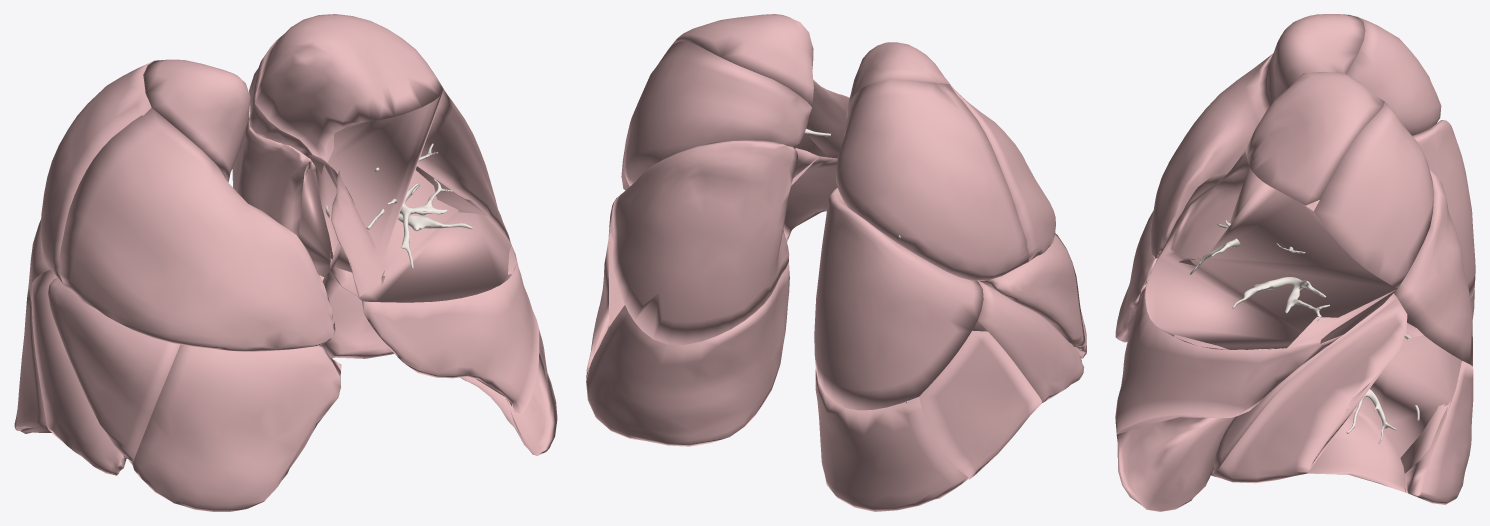
The model's file is 3d-vh-m-lung-80.glb.
3 views of the same model, side by side, from view 1: azimuth 30°, elevation 25°; view 2: azimuth 150°, elevation 25°; view 3: azimuth 270°, elevation 25° (orthographic). The views are drawn at different scales.
Parts seen in each view (by area): view 1: VH_M_right_anterior_bronchopulmonary_segment, VH_M_left_anterior_bronchopulmonary_segment, VH_M_right_medial_bronchopulmonary_segment, VH_M_left_apical_bronchopulmonary_segment, VH_M_left_lingula_superior_bronchopulmonary_segment, VH_M_right_lateral_bronchopulmonary_segment, VH_M_right_apical_bronchopulmonary_segment, VH_M_right_posterior_bronchopulmonary_segment, VH_M_right_anterior_basal_bronchopulmonary_segment, VH_M_left_superior_bronchopulmonary_segment, VH_M_left_lingula_inferior_bronchopulmonary_segment, VH_M_left_medial_basal_bronchopulmonary_segment (+6 smaller); view 2: VH_M_left_superior_bronchopulmonary_segment, VH_M_right_posterior_bronchopulmonary_segment, VH_M_right_superior_bronchopulmonary_segment, VH_M_left_posetrior_basal_bronchopulmonary_segment, VH_M_left_posterior_bronchopulmonary_segment, VH_M_right_posterior_basal_bronchopulmonary_segment, VH_M_right_lateral_basal_bronchopulmonary_segment, VH_M_left_apical_bronchopulmonary_segment, VH_M_right_anterior_basal_bronchopulmonary_segment, VH_M_right_lateral_bronchopulmonary_segment, VH_M_right_anterior_bronchopulmonary_segment, VH_M_left_lingula_superior_bronchopulmonary_segment (+3 smaller); view 3: VH_M_left_anterior_bronchopulmonary_segment, VH_M_left_lingula_superior_bronchopulmonary_segment, VH_M_left_posterior_bronchopulmonary_segment, VH_M_left_anterior_basal_bronchopulmonary_segment, VH_M_left_lateral_basal_bronchopulmonary_segment, VH_M_left_apical_bronchopulmonary_segment, VH_M_left_lingula_inferior_bronchopulmonary_segment, VH_M_right_anterior_bronchopulmonary_segment, VH_M_left_superior_bronchopulmonary_segment, VH_M_right_apical_bronchopulmonary_segment, VH_M_right_posterior_bronchopulmonary_segment, VH_M_left_posetrior_basal_bronchopulmonary_segment (+5 smaller).
Part boxes in pixels (bbox=[...]): VH_M_right_anterior_bronchopulmonary_segment: bbox=[59, 107, 335, 351]; VH_M_left_anterior_bronchopulmonary_segment: bbox=[327, 89, 516, 302]; VH_M_right_medial_bronchopulmonary_segment: bbox=[128, 344, 341, 511]; VH_M_left_apical_bronchopulmonary_segment: bbox=[255, 14, 443, 162]; VH_M_left_lingula_superior_bronchopulmonary_segment: bbox=[362, 166, 539, 413]; VH_M_right_lateral_bronchopulmonary_segment: bbox=[48, 278, 179, 462]; VH_M_right_apical_bronchopulmonary_segment: bbox=[143, 59, 250, 182]; VH_M_right_posterior_bronchopulmonary_segment: bbox=[40, 61, 153, 284]; VH_M_right_anterior_basal_bronchopulmonary_segment: bbox=[31, 269, 126, 475]; VH_M_left_superior_bronchopulmonary_segment: bbox=[232, 106, 327, 238]; VH_M_left_lingula_inferior_bronchopulmonary_segment: bbox=[330, 243, 557, 455]; VH_M_left_medial_basal_bronchopulmonary_segment: bbox=[319, 267, 394, 358]; VH_M_left_superior_bronchopulmonary_segment: bbox=[612, 140, 798, 344]; VH_M_right_posterior_bronchopulmonary_segment: bbox=[835, 80, 1028, 280]; VH_M_right_superior_bronchopulmonary_segment: bbox=[814, 187, 983, 410]; VH_M_left_posetrior_basal_bronchopulmonary_segment: bbox=[586, 262, 789, 446]; VH_M_left_posterior_bronchopulmonary_segment: bbox=[623, 41, 811, 186]; VH_M_right_posterior_basal_bronchopulmonary_segment: bbox=[815, 369, 968, 511]; VH_M_right_lateral_basal_bronchopulmonary_segment: bbox=[903, 330, 1041, 479]; VH_M_left_apical_bronchopulmonary_segment: bbox=[670, 14, 813, 107]; VH_M_right_anterior_basal_bronchopulmonary_segment: bbox=[972, 280, 1084, 402]; VH_M_right_lateral_bronchopulmonary_segment: bbox=[980, 233, 1085, 347]; VH_M_right_anterior_bronchopulmonary_segment: bbox=[950, 84, 1055, 261]; VH_M_left_lingula_superior_bronchopulmonary_segment: bbox=[624, 148, 837, 239]; VH_M_left_anterior_bronchopulmonary_segment: bbox=[1145, 149, 1397, 349]; VH_M_left_lingula_superior_bronchopulmonary_segment: bbox=[1115, 258, 1396, 434]; VH_M_left_posterior_bronchopulmonary_segment: bbox=[1314, 102, 1433, 288]; VH_M_left_anterior_basal_bronchopulmonary_segment: bbox=[1211, 298, 1407, 483]; VH_M_left_lateral_basal_bronchopulmonary_segment: bbox=[1307, 335, 1461, 496]; VH_M_left_apical_bronchopulmonary_segment: bbox=[1246, 71, 1384, 205]; VH_M_left_lingula_inferior_bronchopulmonary_segment: bbox=[1116, 403, 1258, 511]; VH_M_right_anterior_bronchopulmonary_segment: bbox=[1150, 53, 1273, 258]; VH_M_left_superior_bronchopulmonary_segment: bbox=[1394, 168, 1472, 366]; VH_M_right_apical_bronchopulmonary_segment: bbox=[1259, 14, 1365, 113]; VH_M_right_posterior_bronchopulmonary_segment: bbox=[1346, 14, 1441, 135]; VH_M_left_posetrior_basal_bronchopulmonary_segment: bbox=[1400, 323, 1473, 504].
Size of the model in its own units: 0.2594 by 0.2291 by 0.1897.
